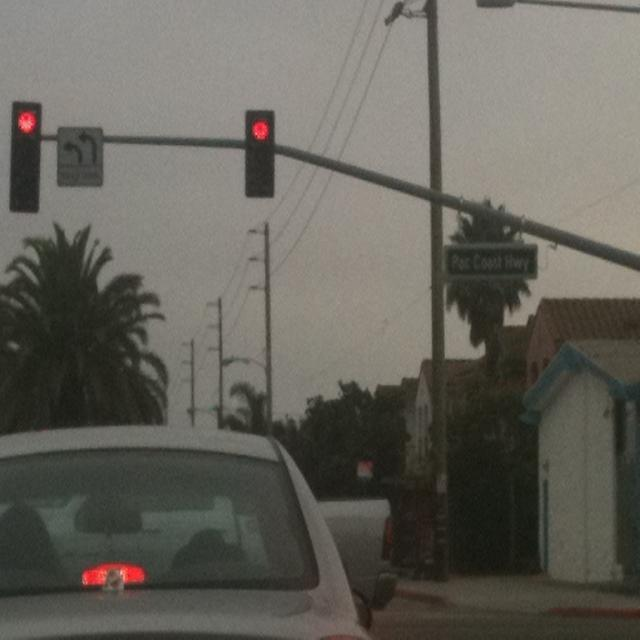traffic light: (10, 100, 43, 213), (247, 110, 275, 197)
